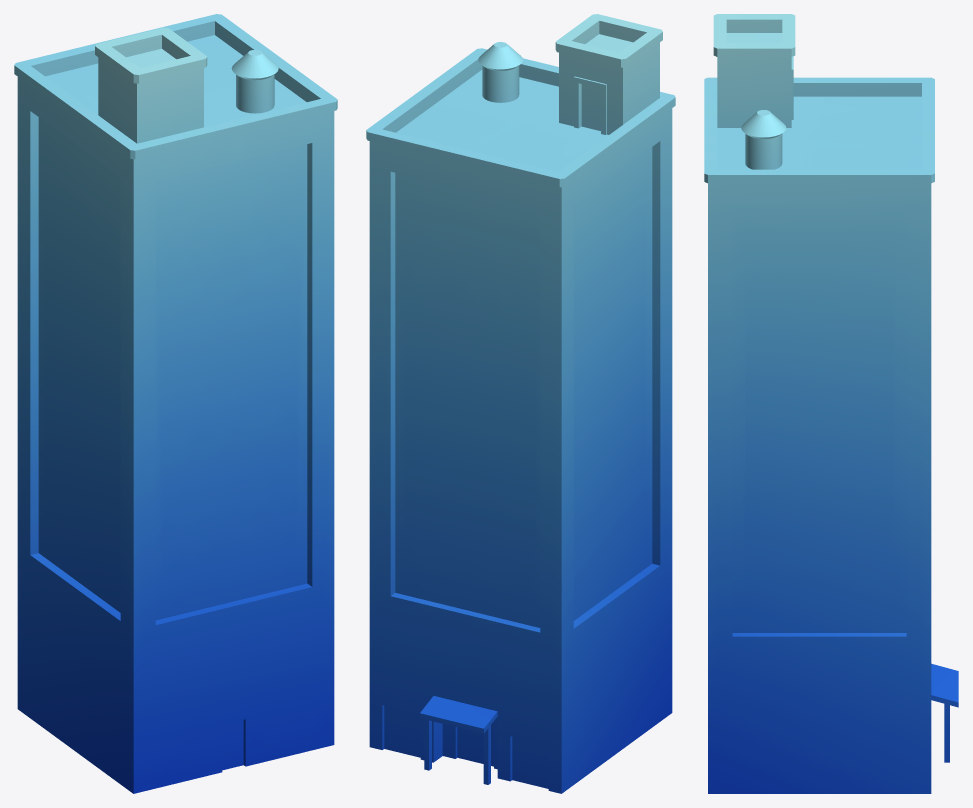
The model's file is build5.fbx.
3 renders of one model, left to right at view 1: azimuth 30°, elevation 25°; view 2: azimuth 150°, elevation 25°; view 3: azimuth 270°, elevation 25°, orthographic. The views are drawn at different scales.
Parts seen in each view (by area): view 1: skyscraperC; view 2: skyscraperC; view 3: skyscraperC.
Boxes of the visible parts, x1,y1,x2,y2 form: skyscraperC: (14, 14, 337, 793); skyscraperC: (366, 14, 675, 793); skyscraperC: (704, 14, 958, 793).
Bounding box in the file's own units: 124 × 408 × 137.
